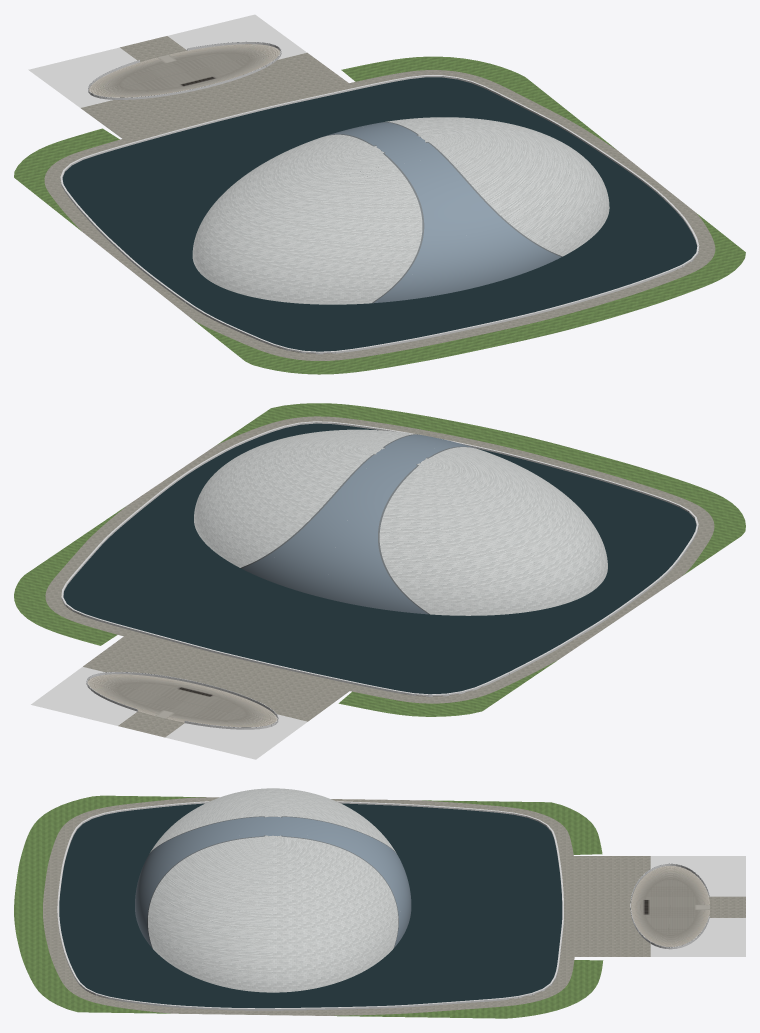
The model's file is ncpa.glb.
3 views of the same model, one above another, from view 1: azimuth 30°, elevation 25°; view 2: azimuth 150°, elevation 25°; view 3: azimuth 270°, elevation 25° (orthographic). The views are drawn at different scales.
Parts seen in each view (by area): view 1: Lake, Shell, Massing, CLEAR_north, FOOTPRINT_court; view 2: Lake, Shell, Massing, CLEAR_north, FOOTPRINT_court; view 3: Lake, Shell, Massing, CLEAR_north, FOOTPRINT_court.
Part boxes in pixels (x1,y1,x2,y2): Lake: [14, 36, 745, 374]; Shell: [192, 117, 609, 304]; Massing: [49, 72, 710, 358]; CLEAR_north: [28, 14, 306, 107]; FOOTPRINT_court: [39, 16, 299, 104]; Lake: [14, 403, 745, 737]; Shell: [194, 429, 607, 615]; Massing: [50, 419, 710, 700]; CLEAR_north: [31, 666, 307, 759]; FOOTPRINT_court: [38, 670, 296, 756]; Lake: [14, 795, 745, 1018]; Shell: [135, 788, 411, 992]; Massing: [43, 797, 578, 1015]; CLEAR_north: [650, 856, 745, 956]; FOOTPRINT_court: [650, 861, 745, 922].
Size of the model in its own units: 274 by 48.14 by 380.
Materials: 11 (4 with a texture image).
